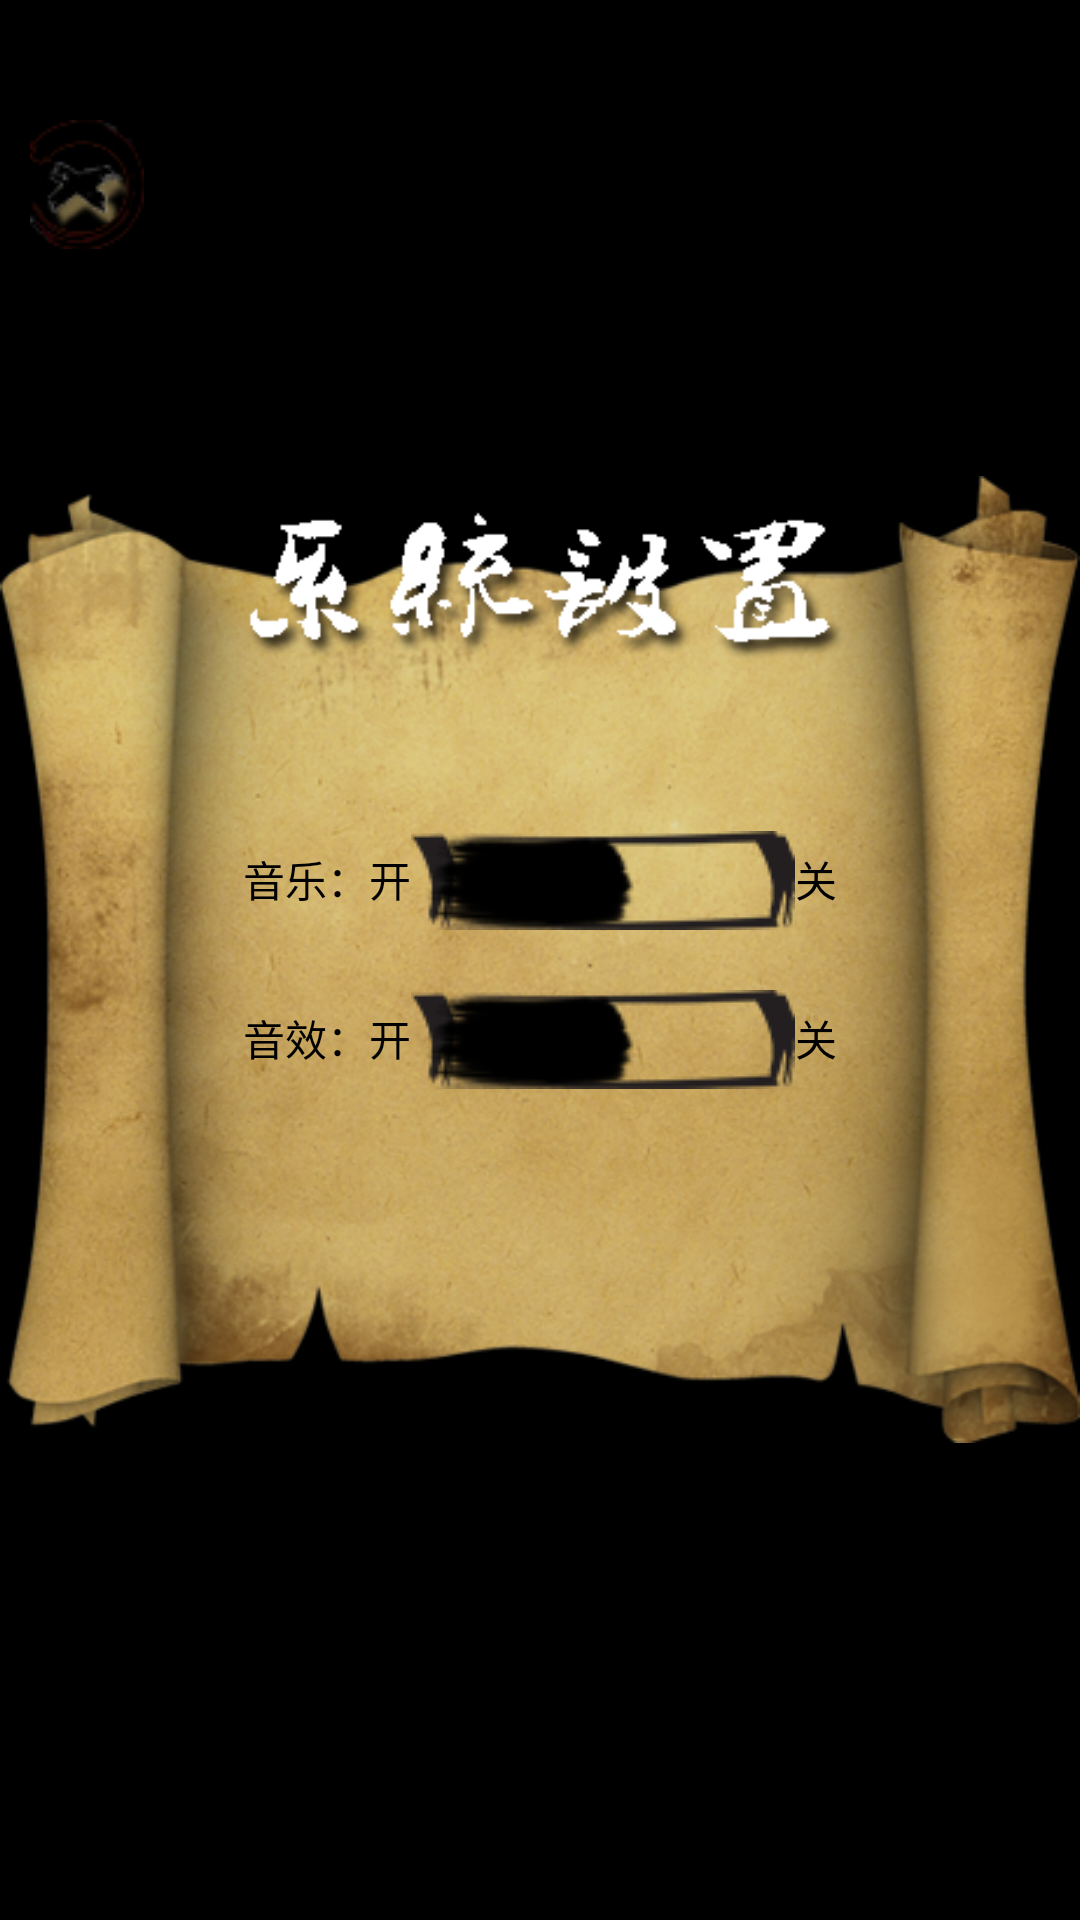

Point at icon controls on the screen. Image size 1080*1920, points as (x=x, y=y).
closewin: (x=87, y=184)
